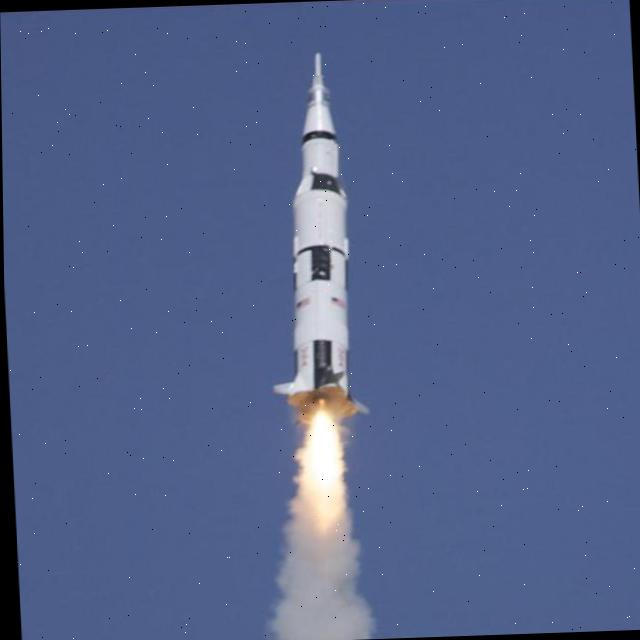missile: (254, 49, 368, 437)
